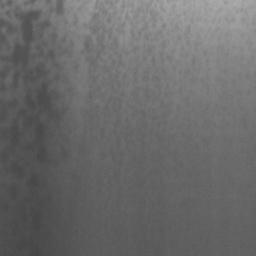Pitted surface: (0, 0, 73, 138), (82, 2, 117, 64), (12, 122, 19, 142), (37, 148, 45, 161), (31, 176, 38, 186)
